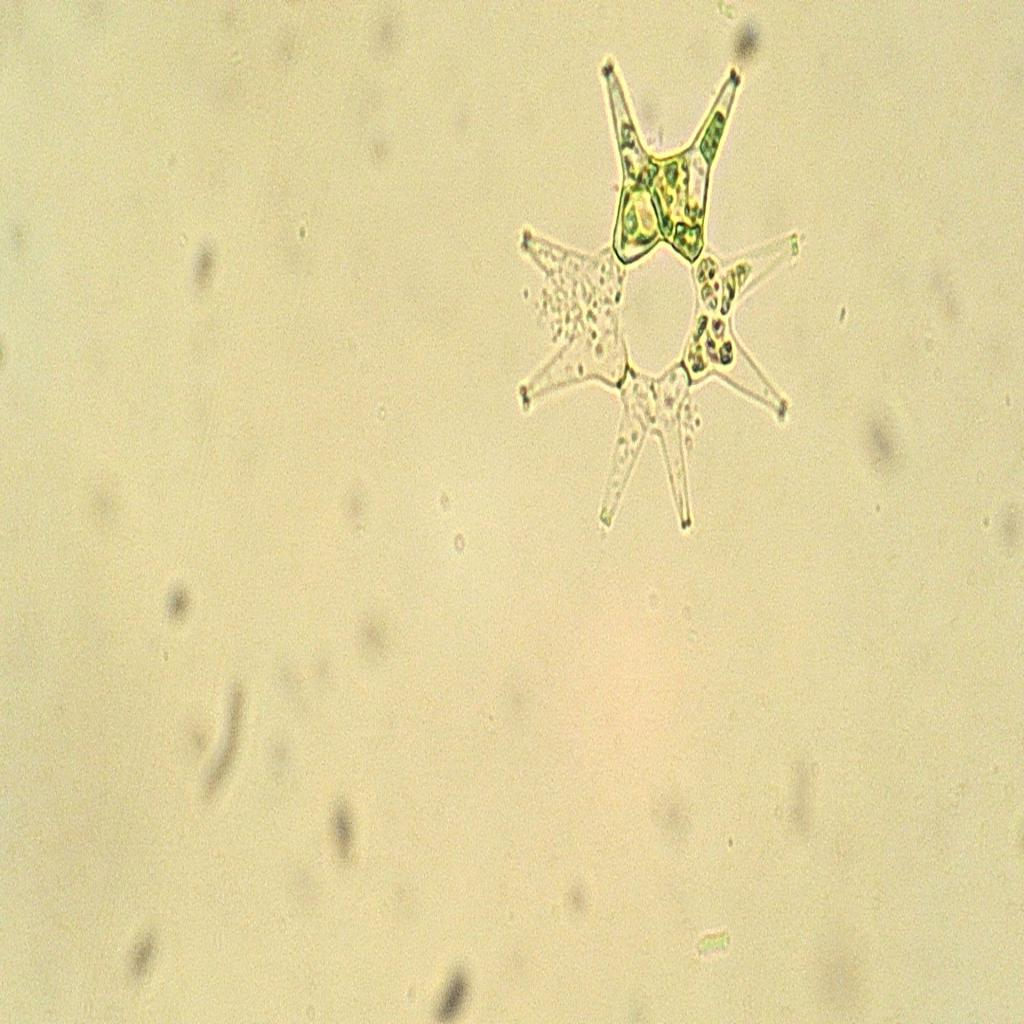Pediastrum_75TH: (506, 33, 810, 558)
